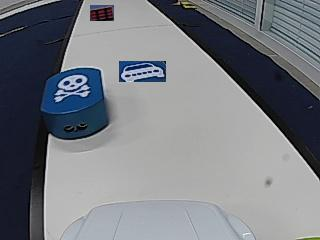danger: (54, 74, 88, 102)
